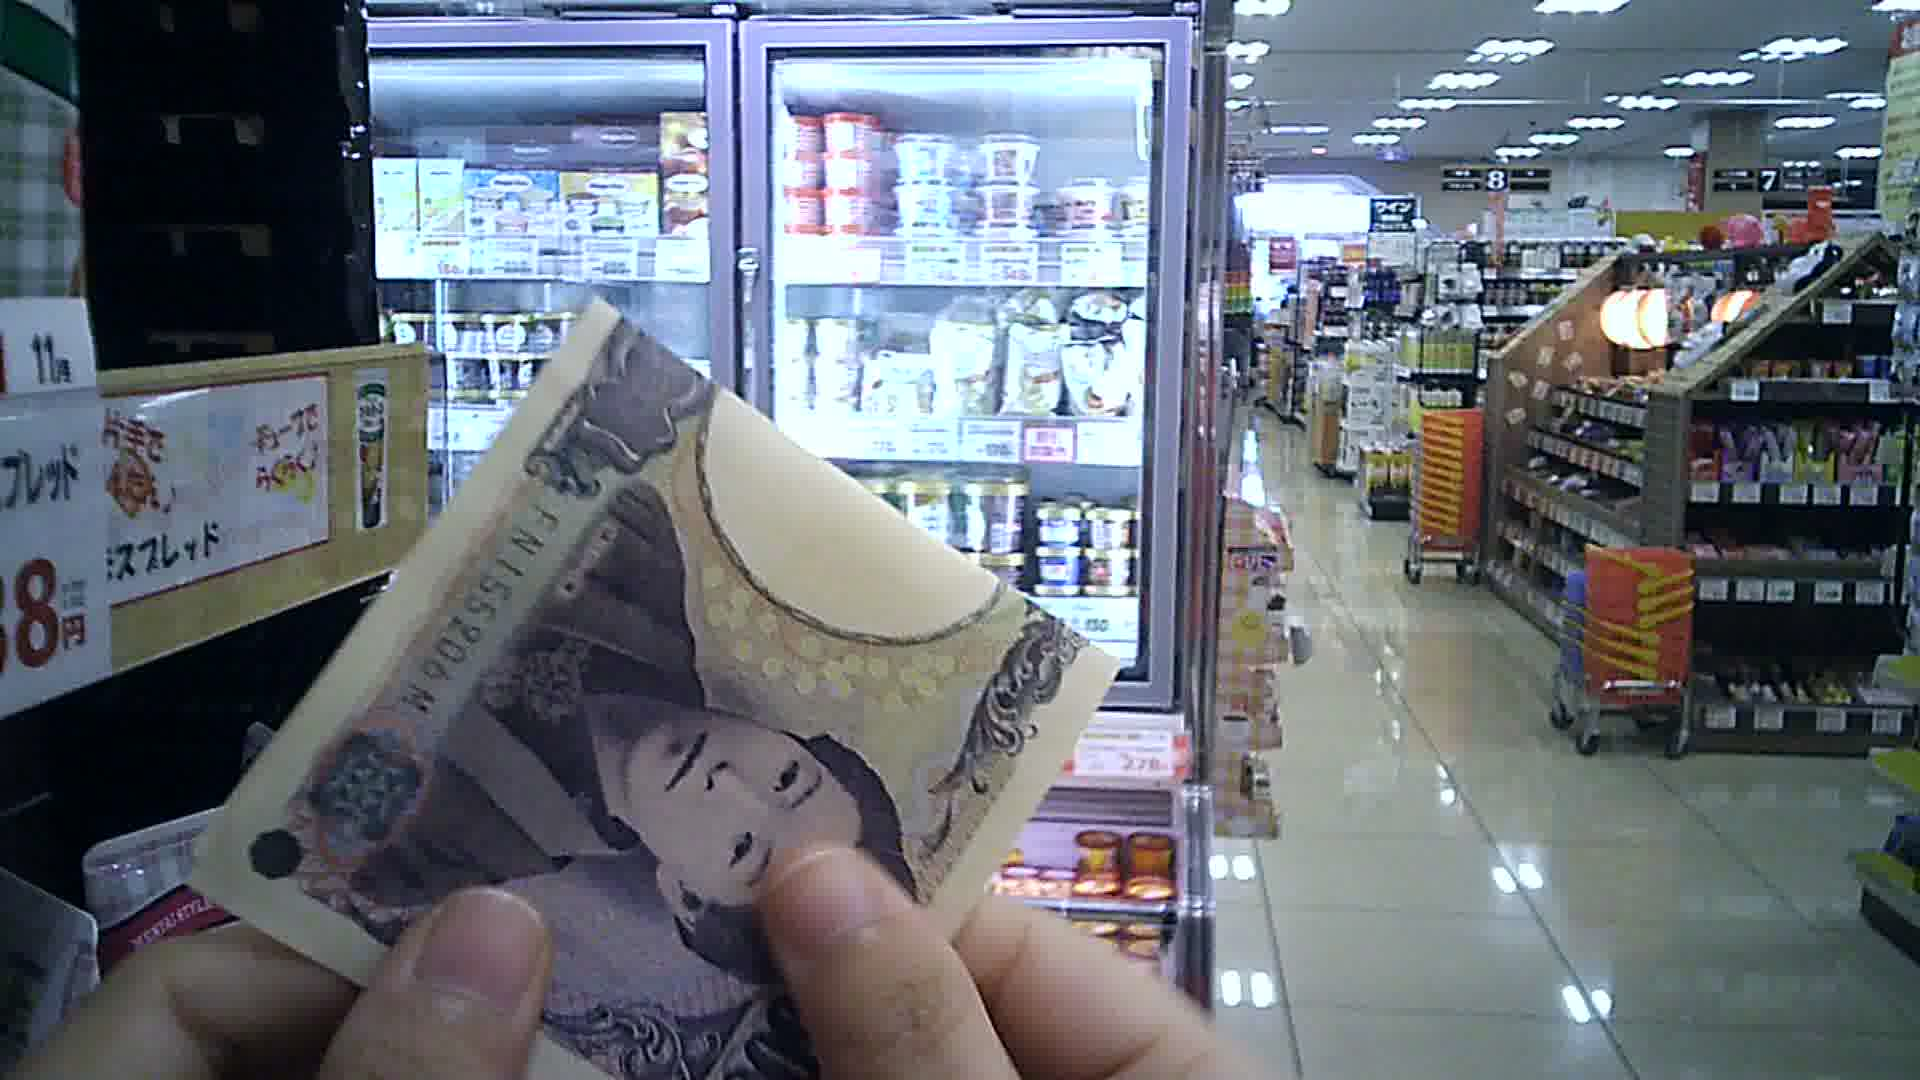5,000 Yen: (202, 291, 1088, 1079)
